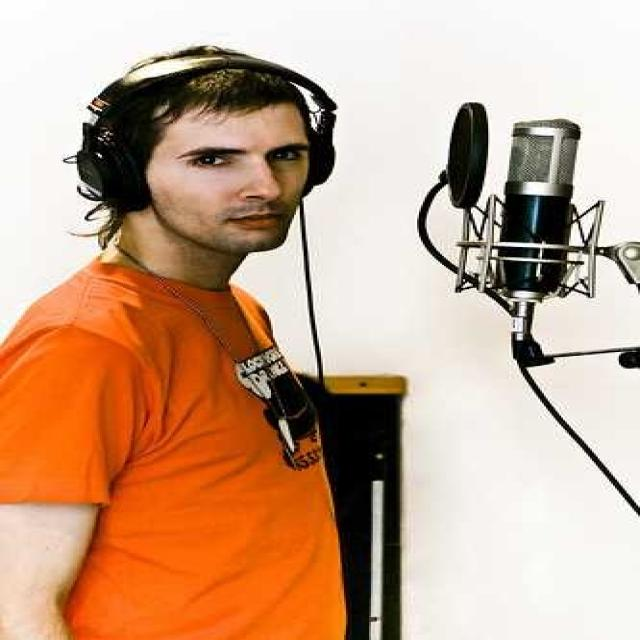microphone: (495, 121, 580, 301)
